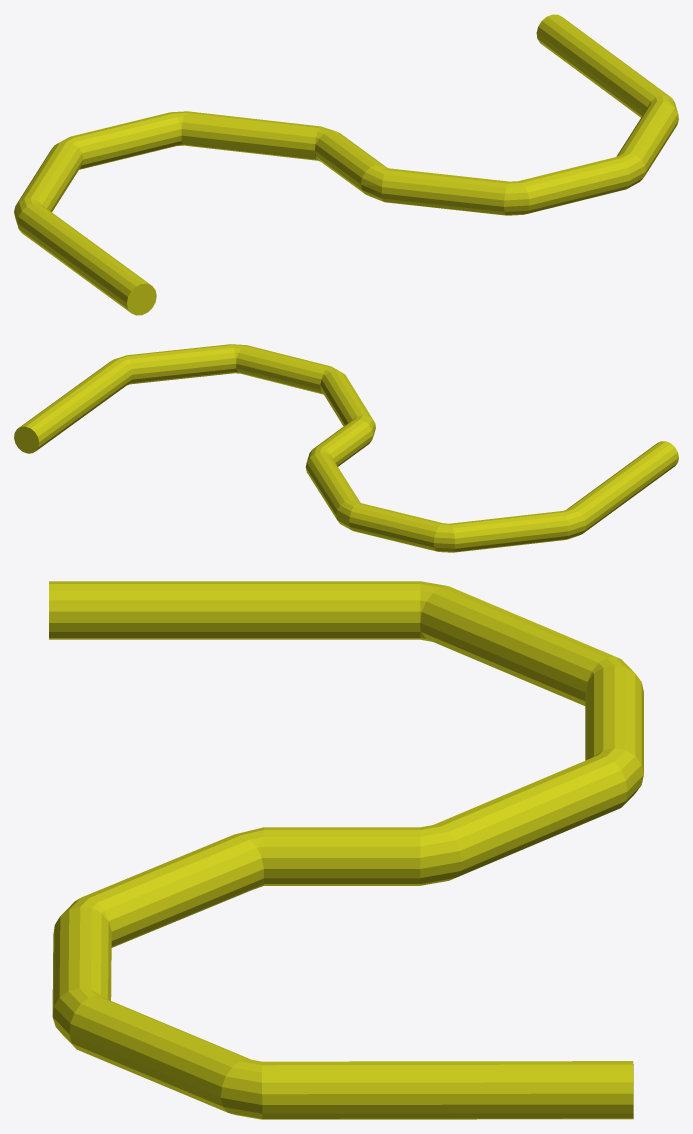
Rendered from pipe_s_5m.obj.
3 renders of one model, top to bottom at view 1: azimuth 30°, elevation 25°; view 2: azimuth 150°, elevation 25°; view 3: azimuth 270°, elevation 25°, orthographic. The views are drawn at different scales.
Bounding box in the file's own units: 61.34 × 3.22 × 30.45.
